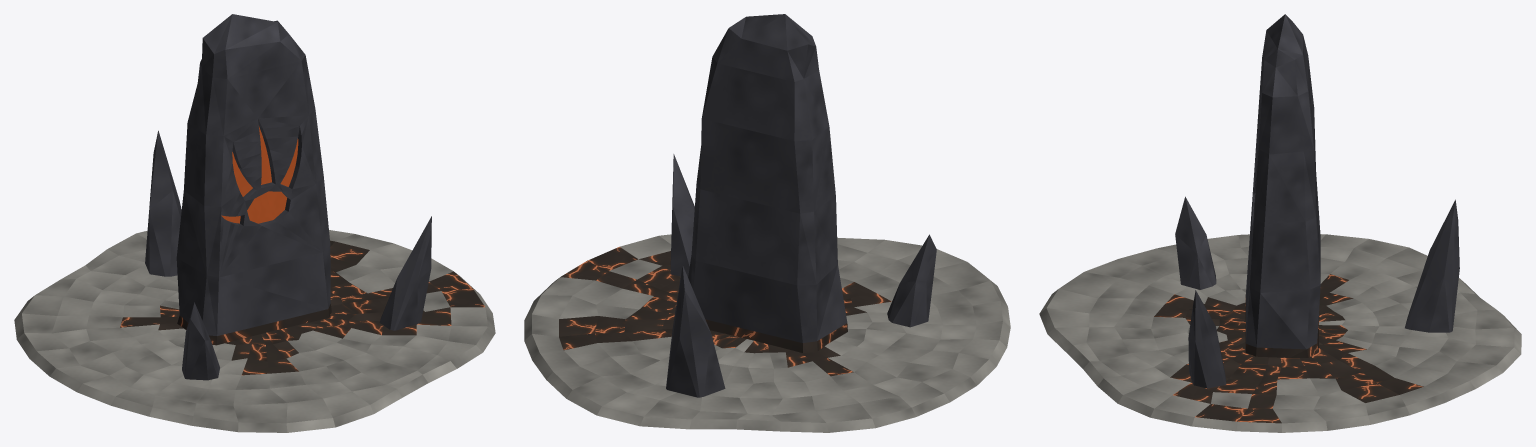
The model's file is milim_marker.fbx.
3 renders of one model, left to right at view 1: azimuth 30°, elevation 25°; view 2: azimuth 150°, elevation 25°; view 3: azimuth 270°, elevation 25°, orthographic. The views are drawn at different scales.
Visible parts, largest first — view 1: milim_marker_Ground, milim_marker_Monolith, milim_marker_Stones; view 2: milim_marker_Ground, milim_marker_Monolith, milim_marker_Stones; view 3: milim_marker_Ground, milim_marker_Monolith, milim_marker_Stones.
Boxes of the visible parts, left/top/right/bottom form: milim_marker_Ground: left=14, top=230, right=495, bottom=432; milim_marker_Monolith: left=176, top=14, right=331, bottom=345; milim_marker_Stones: left=145, top=130, right=431, bottom=380; milim_marker_Ground: left=524, top=234, right=1010, bottom=432; milim_marker_Monolith: left=688, top=14, right=847, bottom=353; milim_marker_Stones: left=666, top=154, right=936, bottom=397; milim_marker_Ground: left=1039, top=234, right=1521, bottom=432; milim_marker_Monolith: left=1245, top=14, right=1320, bottom=357; milim_marker_Stones: left=1175, top=196, right=1459, bottom=388.
Size of the model in its own units: 22.14 by 16.8 by 22.95.
1 material, 1 textured.
